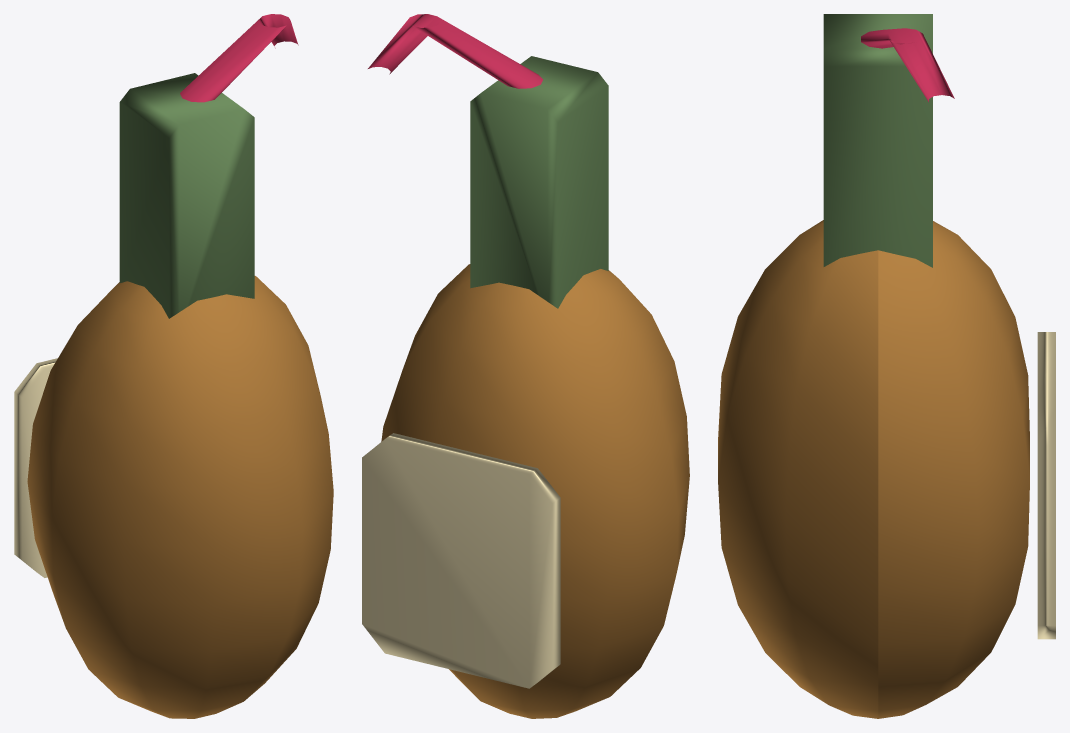
File: weapon_bottle-barrage.glb
3 renders of one model, left to right at view 1: azimuth 30°, elevation 25°; view 2: azimuth 150°, elevation 25°; view 3: azimuth 270°, elevation 25°, orthographic. The views are drawn at different scales.
Parts seen in each view (by area): view 1: Bottle, Neck, Label, Fuse; view 2: Bottle, Label, Neck, Fuse; view 3: Bottle, Neck, Label, Fuse.
Boxes of the visible parts, x1=… form: Bottle: x1=27, y1=276, x2=333, y2=718; Neck: x1=119, y1=73, x2=254, y2=318; Label: x1=14, y1=358, x2=57, y2=577; Fuse: x1=180, y1=14, x2=298, y2=102; Bottle: x1=381, y1=264, x2=689, y2=718; Label: x1=362, y1=433, x2=560, y2=688; Neck: x1=470, y1=56, x2=608, y2=308; Fuse: x1=368, y1=14, x2=543, y2=88; Bottle: x1=718, y1=220, x2=1029, y2=718; Neck: x1=823, y1=14, x2=932, y2=267; Label: x1=1037, y1=332, x2=1055, y2=639; Fuse: x1=861, y1=28, x2=954, y2=101.
Bounding box in the file's own units: 0.385 × 0.88 × 0.3707.
